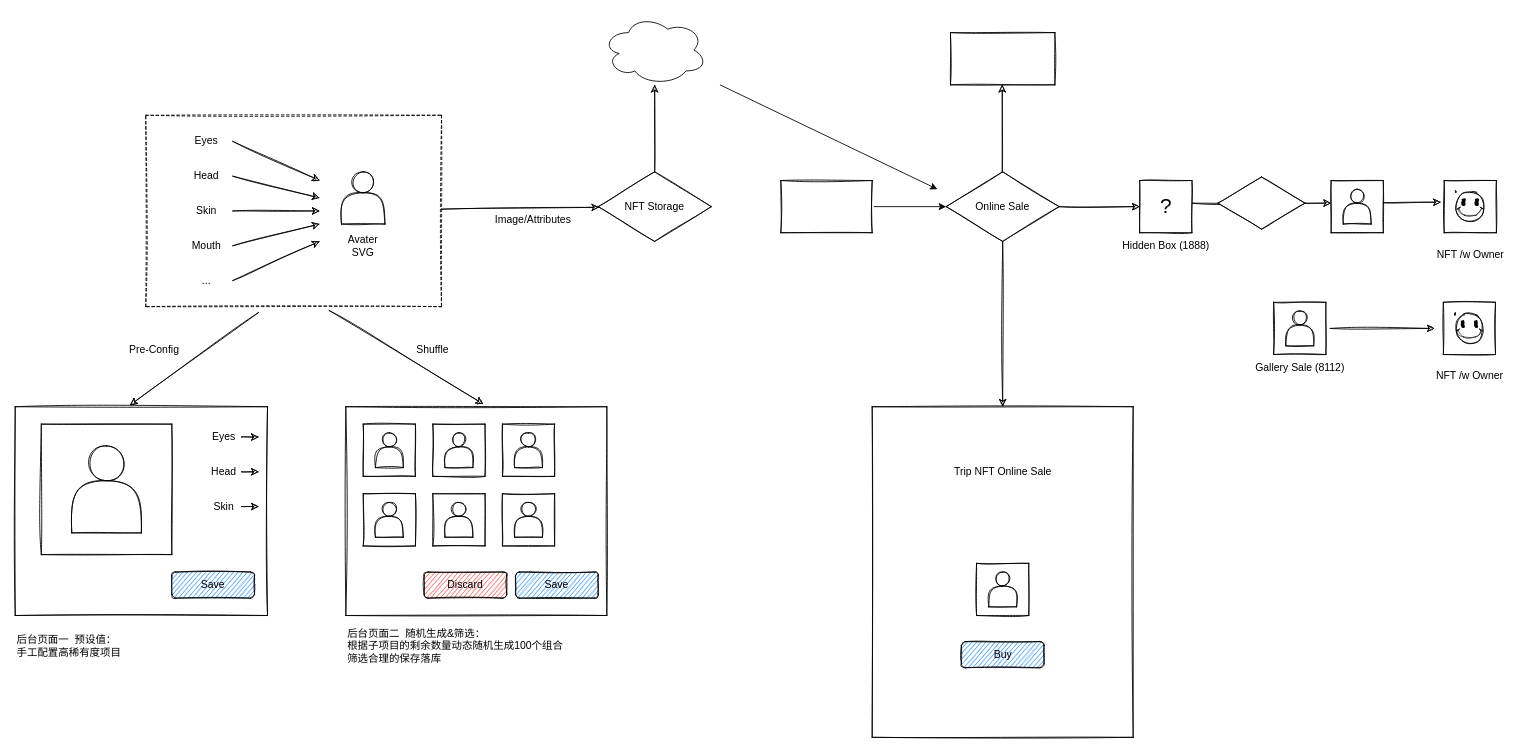
This 1537x753 diagram has some shape labels left out. The shapes that lost their labels are listed below. From the top down, each one's box as (x1, y1, x2, y2) in pixels, then its label:
(602, 14, 707, 85): IPFS
(950, 32, 1055, 85): Contract
(780, 180, 872, 233): Random Number
(1217, 176, 1305, 229): Open Box
